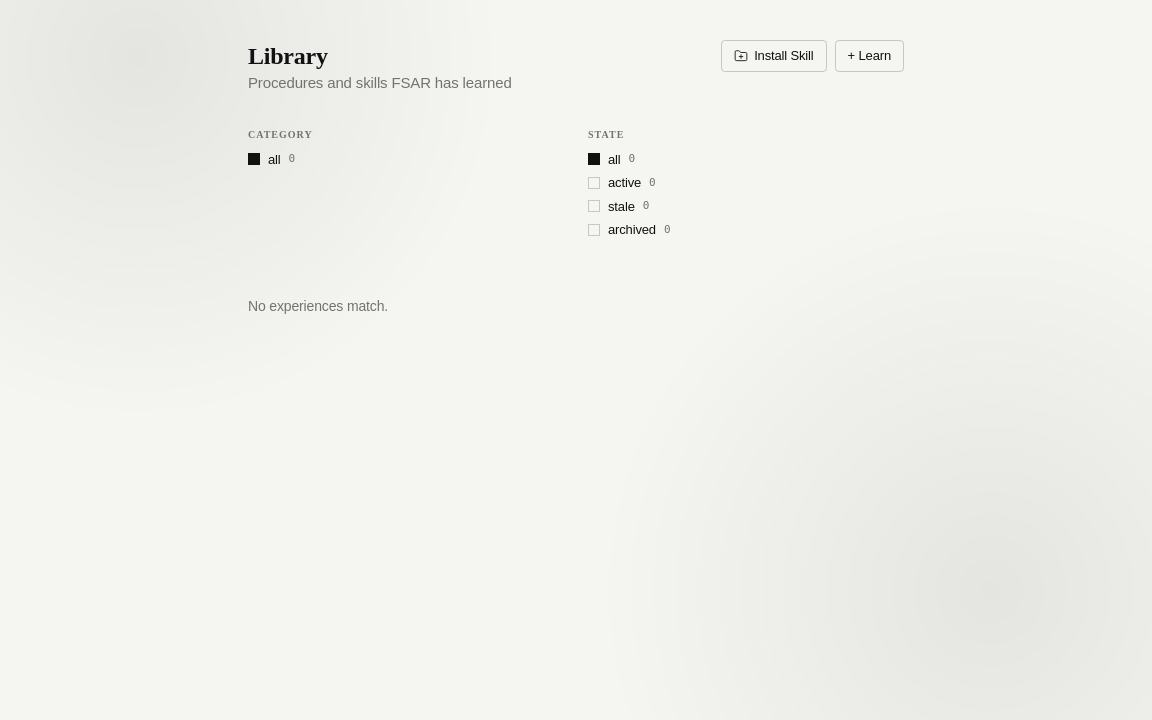
Test: Library skill install › posts the selected folder to the same-origin session
Click the button "Install Skill" at (774, 56), box [721,40,827,72]
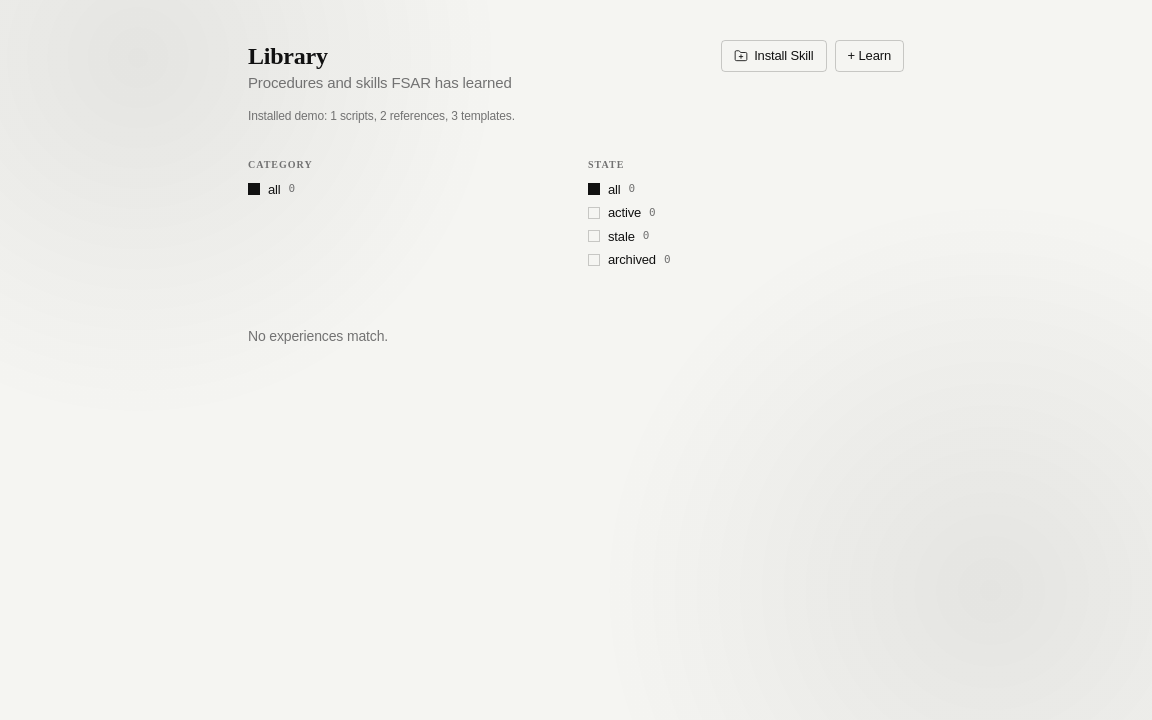
Expected: the text "Installed demo: 1 scripts, 2 references, 3 templates." is shown, [248,108,515,122]
